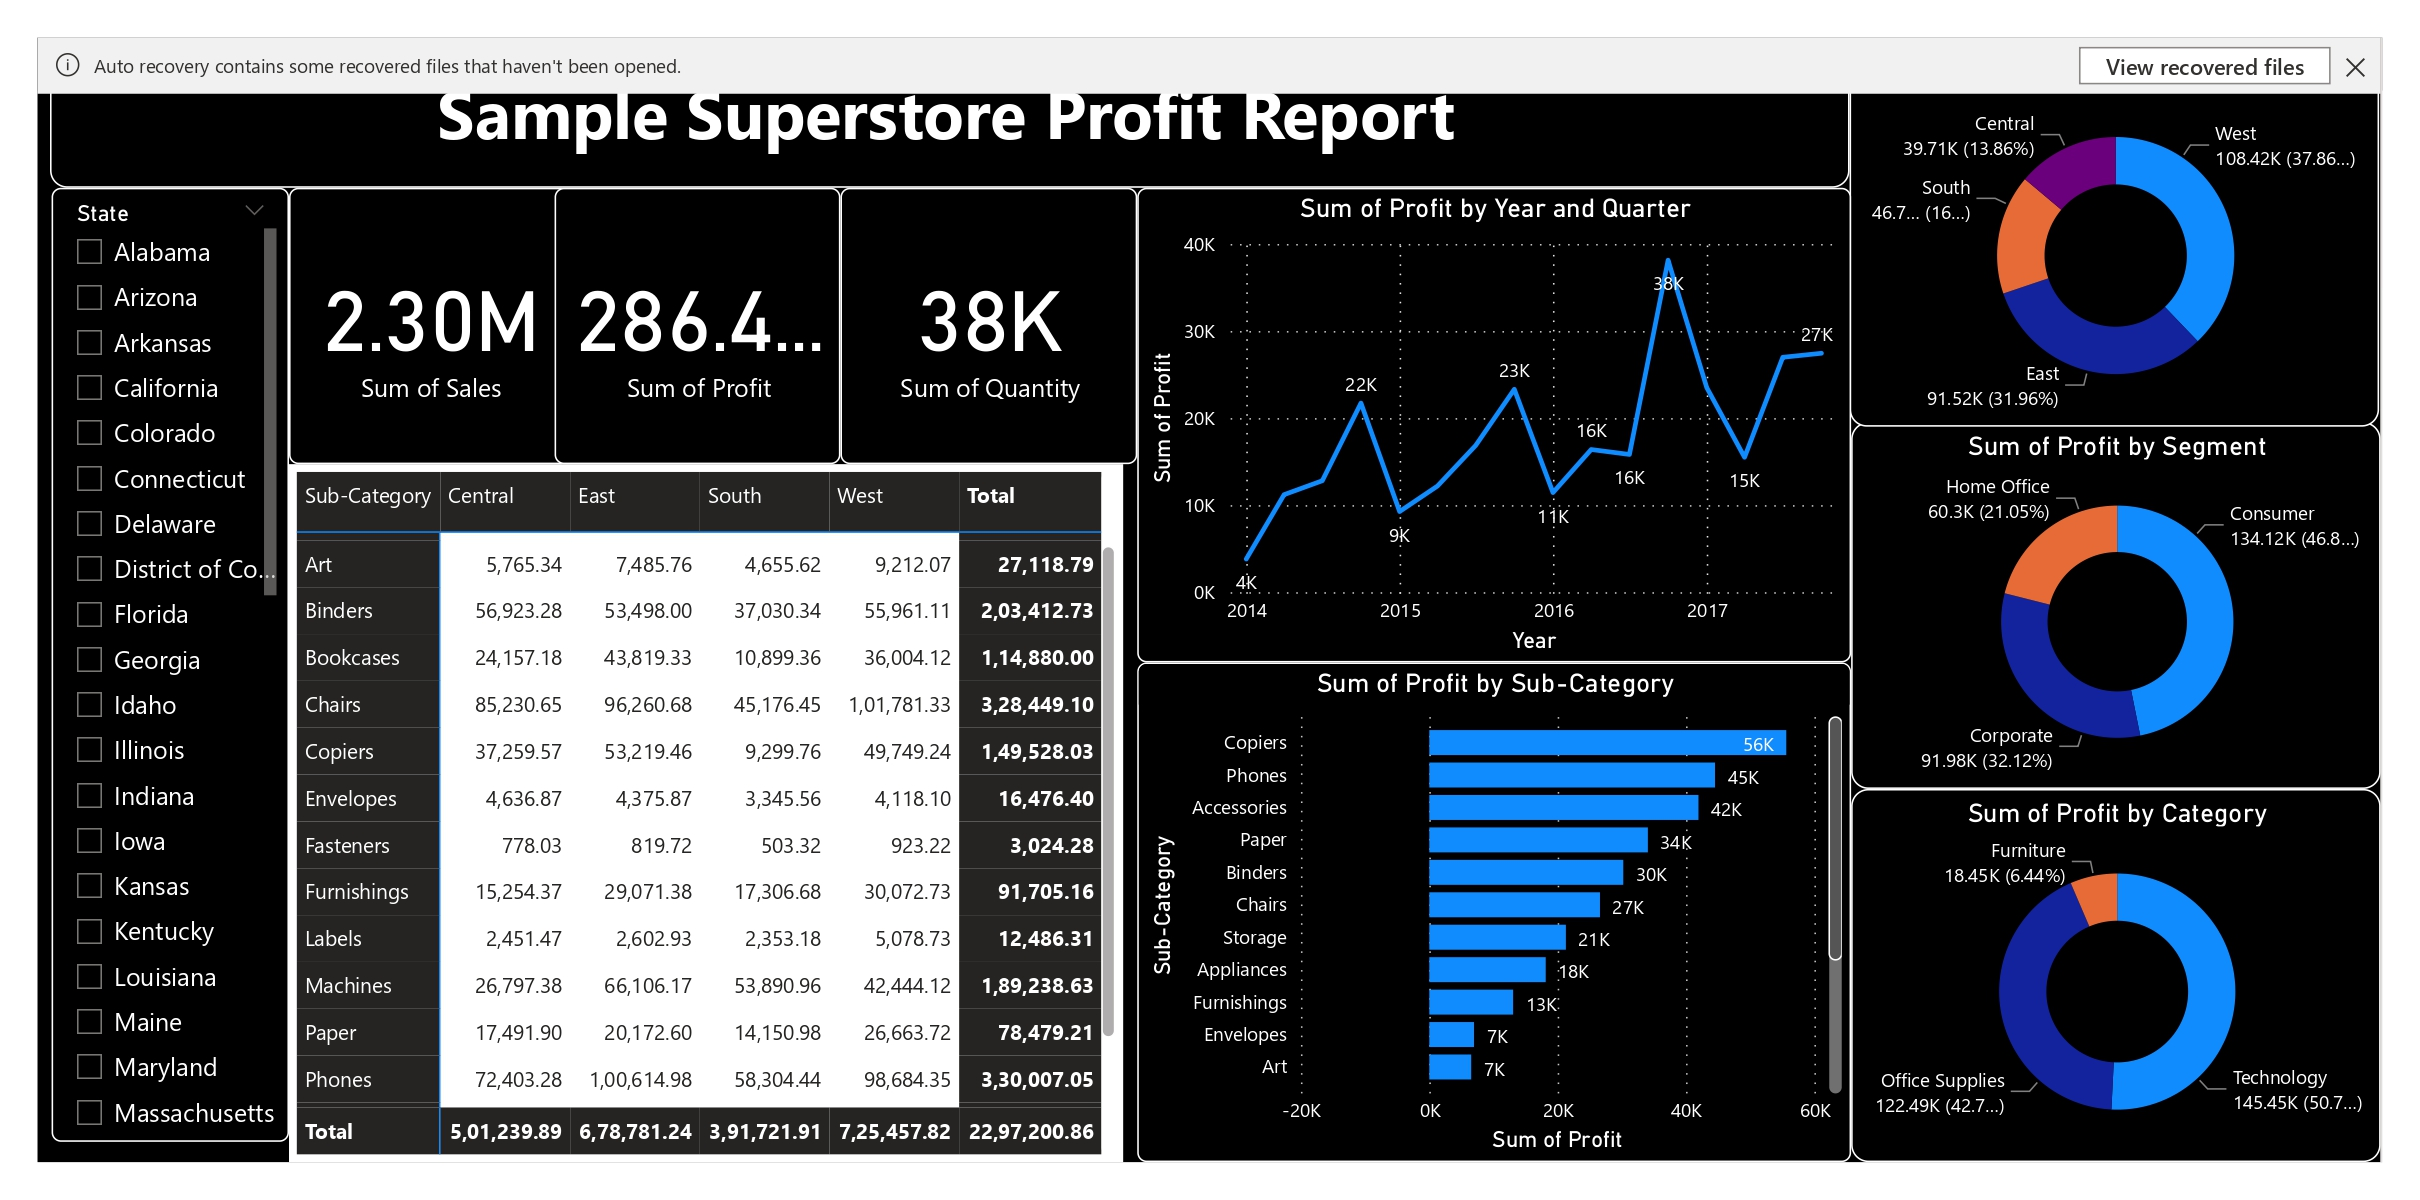

The dashboard page shown, as its layout file describes it:
{"tool":"powerbi","page":{"name":"Page 1","canvas":[1500,720],"ordinal":0},"visuals":[{"type":"textbox","box":[7.5,8.8,1152.5,87.5],"z":0},{"type":"barChart","fields":{"Y":["Sum(Orders.Profit)"],"Category":["Orders.Sub-Category"]},"box":[703.8,400,457.5,320],"z":1000},{"type":"donutChart","fields":{"Category":["Orders.Category"],"Y":["Sum(Orders.Profit)"]},"box":[1161.2,481.2,338.8,238.8],"z":2000},{"type":"donutChart","fields":{"Category":["Orders.Segment"],"Y":["Sum(Orders.Profit)"]},"box":[1161.2,246.2,338.8,235],"z":3000},{"type":"donutChart","fields":{"Category":["Orders.Region"],"Y":["Sum(Orders.Profit)"]},"box":[1160,8.8,338.8,240],"z":4000},{"type":"lineChart","fields":{"Category":["Orders.Order Date.Variation.Date Hierarchy.Year","Orders.Order Date.Variation.Date Hierarchy.Quarter"],"Y":["Sum(Orders.Profit)"]},"box":[703.8,96.2,457.5,303.8],"z":5000},{"type":"slicer","fields":{"Values":["Orders.State"]},"box":[7.5,96.2,153.8,596.2],"z":6000},{"type":"pivotTable","fields":{"Rows":["Orders.Sub-Category"],"Columns":["Orders.Region"],"Values":["Sum(Orders.Sales)"]},"box":[161.2,272.5,533.8,447.5],"z":7000},{"type":"card","fields":{"Values":["Sum(Orders.Sales)"]},"box":[161.2,96.2,180,176.2],"z":8000},{"type":"card","fields":{"Values":["Sum(Orders.Profit)"]},"box":[331.2,96.2,182.5,176.2],"z":9000},{"type":"card","fields":{"Values":["Sum(Orders.Quantity)"]},"box":[513.8,96.2,190,176.2],"z":10000}]}

Visuals, with their boxes in screenshot pixels (x1, y1, x2, y2):
textbox: l=56, t=58, r=1824, b=192
barChart - Sum(Orders.Profit) x Orders.Sub-Category: l=1124, t=658, r=1826, b=1149
donutChart - Orders.Category x Sum(Orders.Profit): l=1826, t=783, r=2346, b=1149
donutChart - Orders.Segment x Sum(Orders.Profit): l=1826, t=422, r=2346, b=783
donutChart - Orders.Region x Sum(Orders.Profit): l=1824, t=58, r=2344, b=426
lineChart - Orders.Order Date.Variation.Date Hierarchy.Year x Orders.Order Date.Variation.Date Hierarchy.Quarter: l=1124, t=192, r=1826, b=658
slicer - Orders.State: l=56, t=192, r=292, b=1107
pivotTable - Orders.Sub-Category x Orders.Region: l=291, t=462, r=1111, b=1149
card - Sum(Orders.Sales): l=291, t=192, r=568, b=462
card - Sum(Orders.Profit): l=552, t=192, r=832, b=462
card - Sum(Orders.Quantity): l=833, t=192, r=1124, b=462
